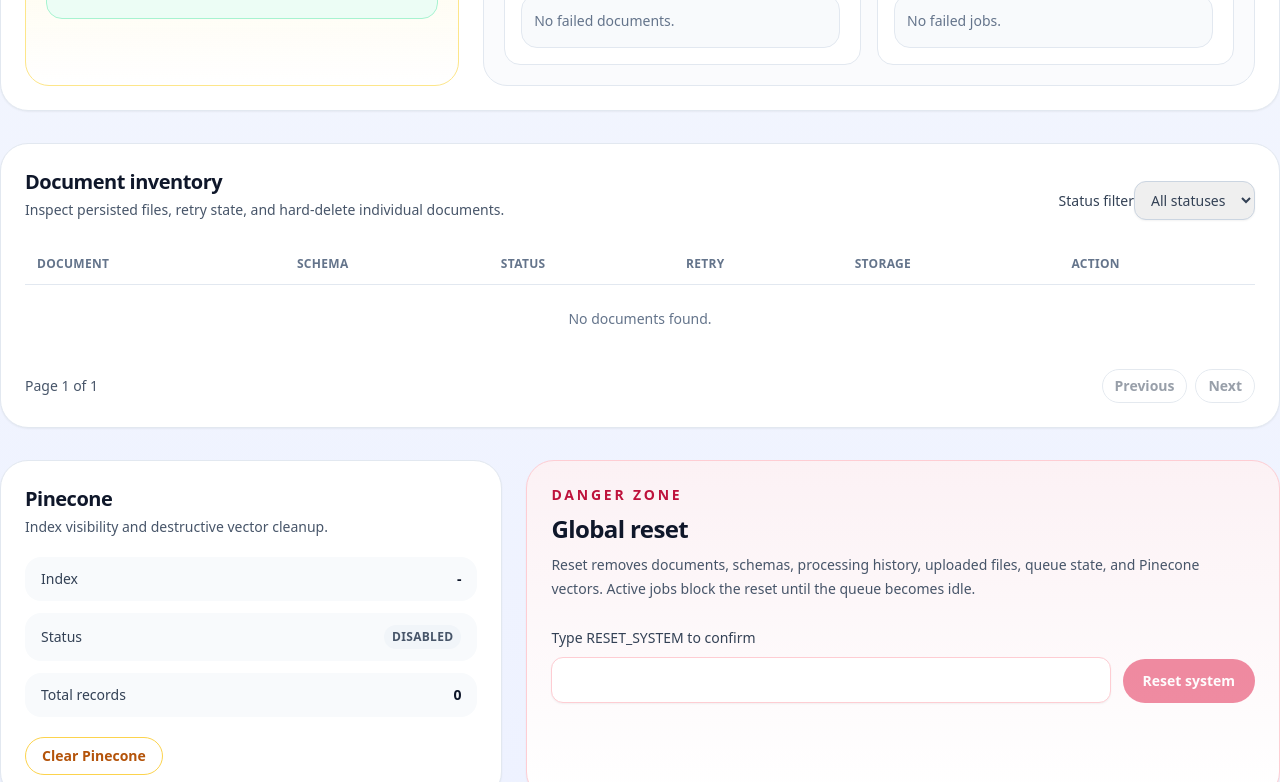
Admin › shows reset warnings clearly after a successful reset
(page scrolled)
Check: the button "Reset system" is shown, box [1122,659,1255,703]
In the field labelled "Type RESET_SYSTEM to confirm": (831, 680) [551,657,1111,703], type "RESET_SYSTEM"
(page scrolled)
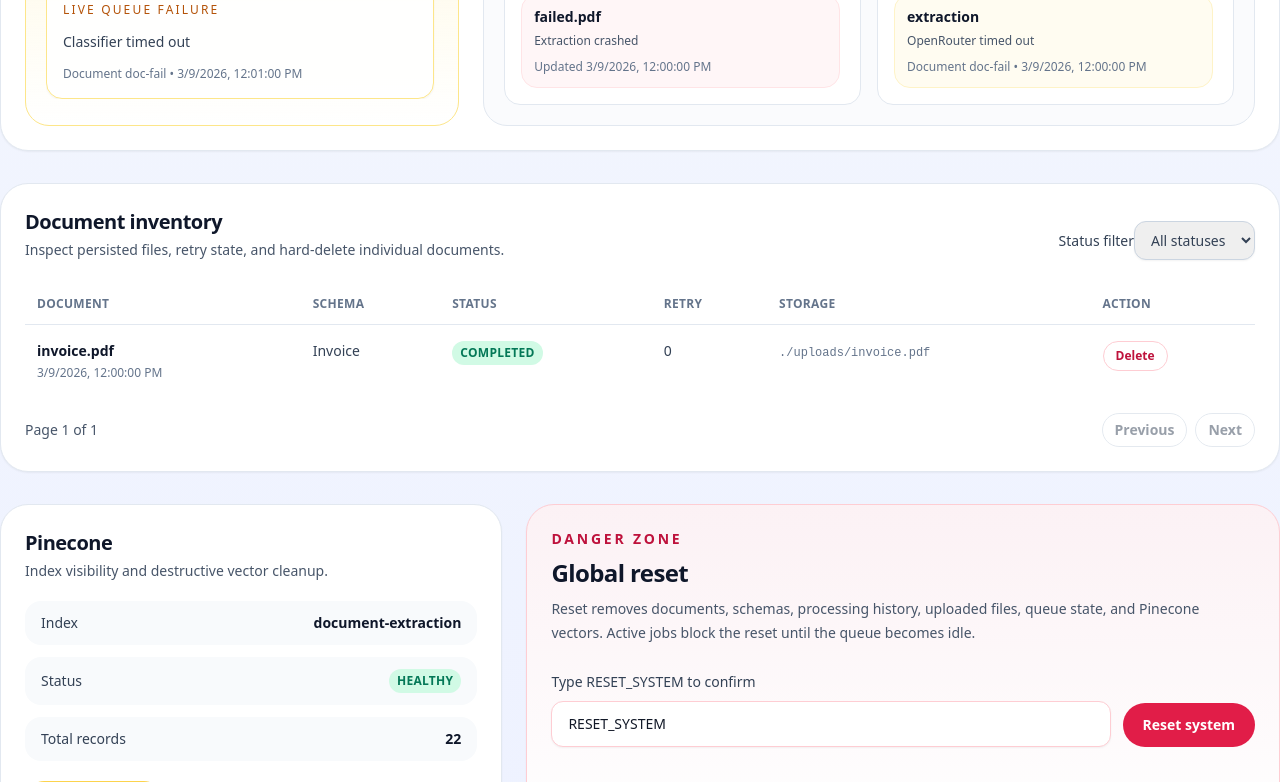
Submit the form "Reset system", box [551,669,1255,747]
(page scrolled)
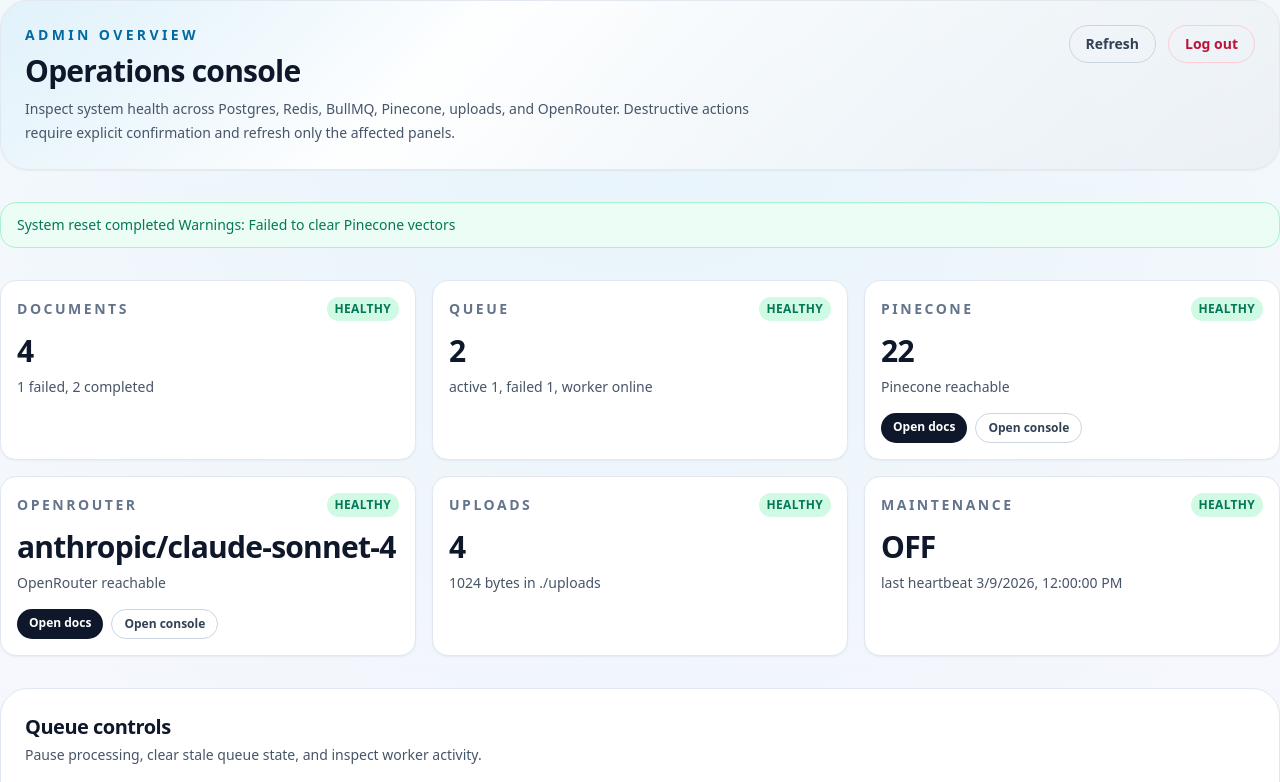
Check: the text "System reset completed Warnings: Failed to clear Pinecone vectors" is shown, box [0,202,1279,248]
